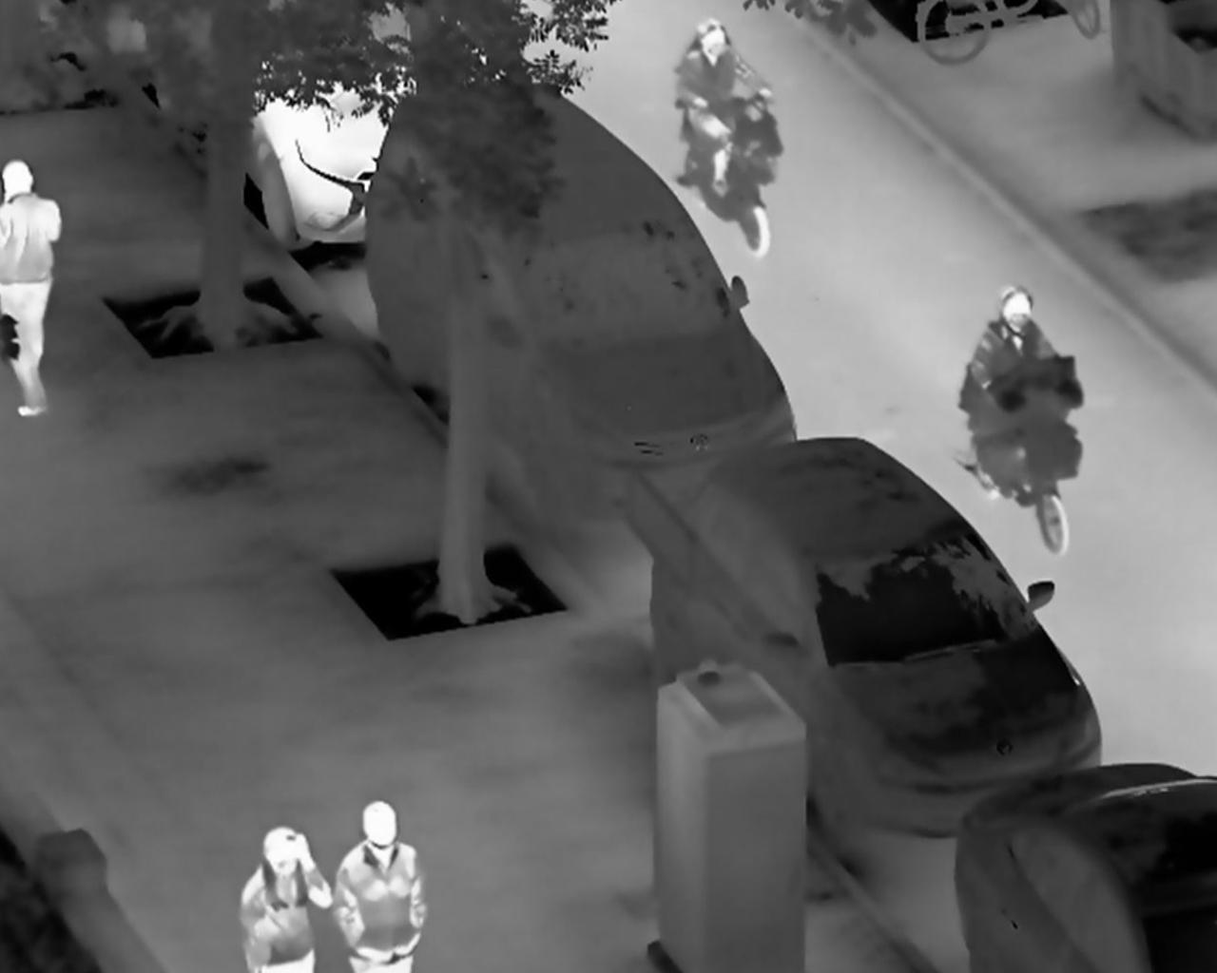person: (956, 280, 1087, 438), (672, 19, 777, 200), (330, 798, 435, 973), (235, 824, 334, 973)
